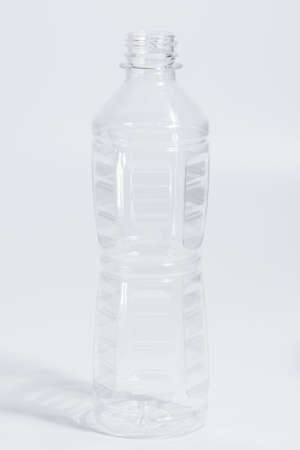plastic_bottle: (55, 25, 300, 450)
